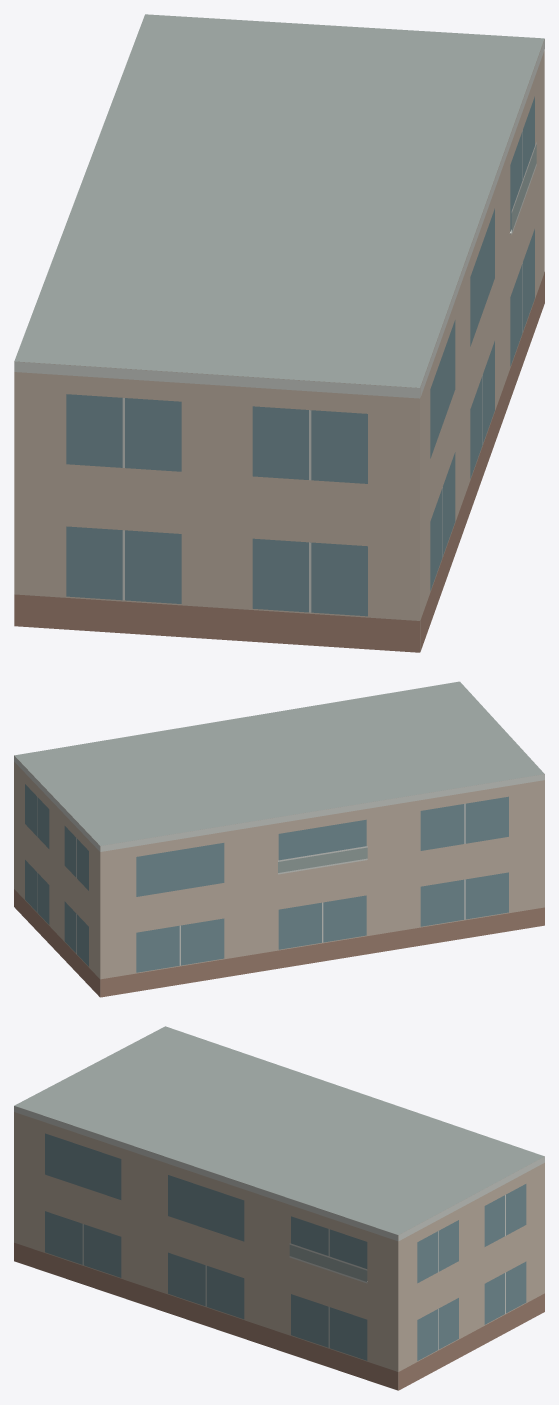
File: survey-upis-32885562.glb
3 views of the same model, one above another, from view 1: azimuth 30°, elevation 25°; view 2: azimuth 150°, elevation 25°; view 3: azimuth 270°, elevation 25° (orthographic). The views are drawn at different scales.
Parts seen in each view (by area): view 1: survey-upis-32885562.tmp; view 2: survey-upis-32885562.tmp; view 3: survey-upis-32885562.tmp.
Boxes of the visible parts, x1=… form: survey-upis-32885562.tmp: x1=14, y1=14, x2=544, y2=652; survey-upis-32885562.tmp: x1=14, y1=681, x2=544, y2=997; survey-upis-32885562.tmp: x1=14, y1=1026, x2=544, y2=1390.
Size of the model in its own units: 17.59 by 6.1 by 18.88.
